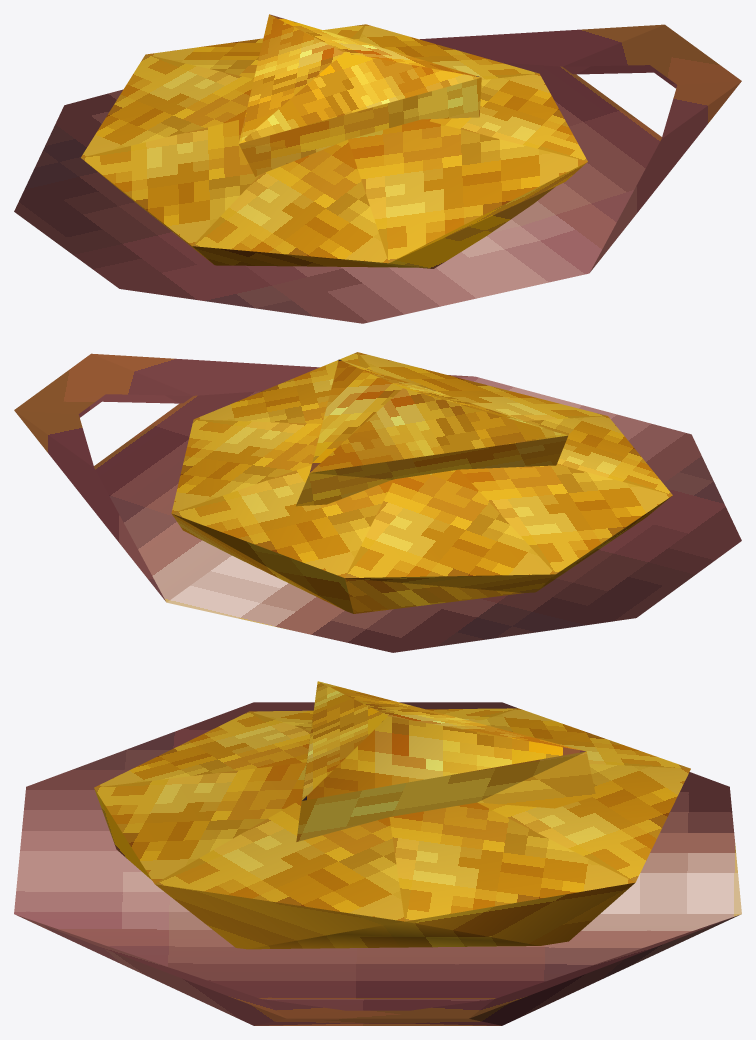
Rendered from edb_food_muffin_l3.fbx.
3 renders of one model, top to bottom at view 1: azimuth 30°, elevation 25°; view 2: azimuth 150°, elevation 25°; view 3: azimuth 270°, elevation 25°, orthographic. The views are drawn at different scales.
Parts seen in each view (by area): view 1: mesh_node; view 2: mesh_node; view 3: mesh_node.
Boxes of the visible parts, <box> form: mesh_node: <box>14,14,741,323</box>; mesh_node: <box>14,352,741,652</box>; mesh_node: <box>14,681,741,1025</box>.
Size of the model in its own units: 0.3293 by 0.0724 by 0.2767.
